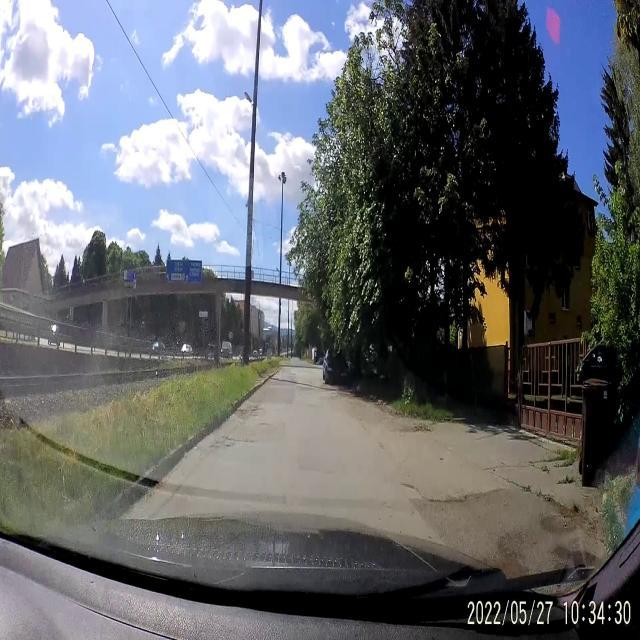Pothole: (422, 492, 469, 509), (216, 436, 250, 450), (399, 474, 418, 494), (234, 407, 252, 420), (252, 406, 267, 416), (208, 440, 214, 450), (439, 456, 446, 462), (258, 422, 268, 426)
